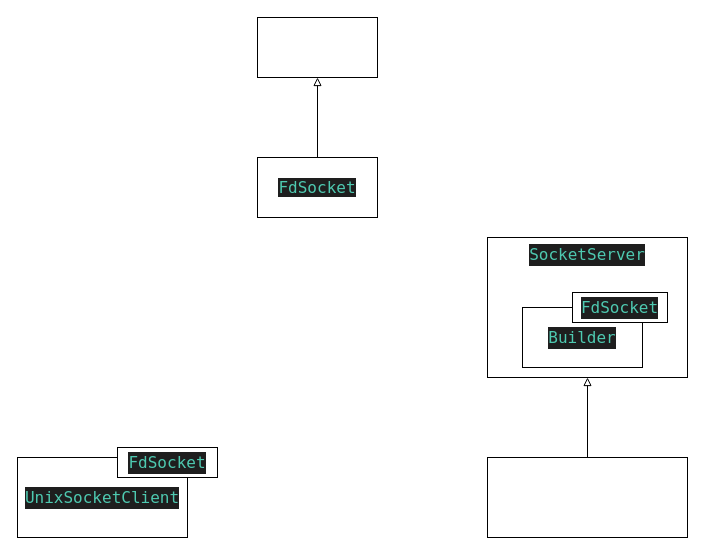
This 705x555 diagram has some shape labels left out. Here are the shapes that lost their labels. From the top down, the centre of each, then its label:
point 317,47: Socket
point 587,497: UnixSocketServer
